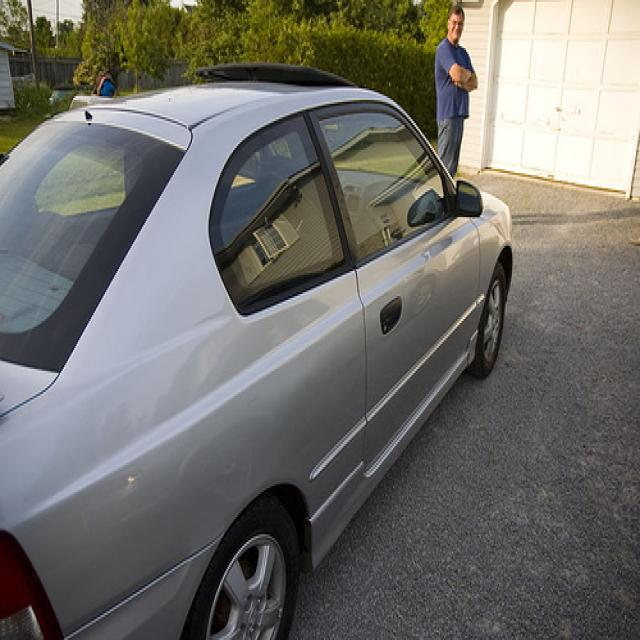light_vehicle: (0, 62, 515, 638)
